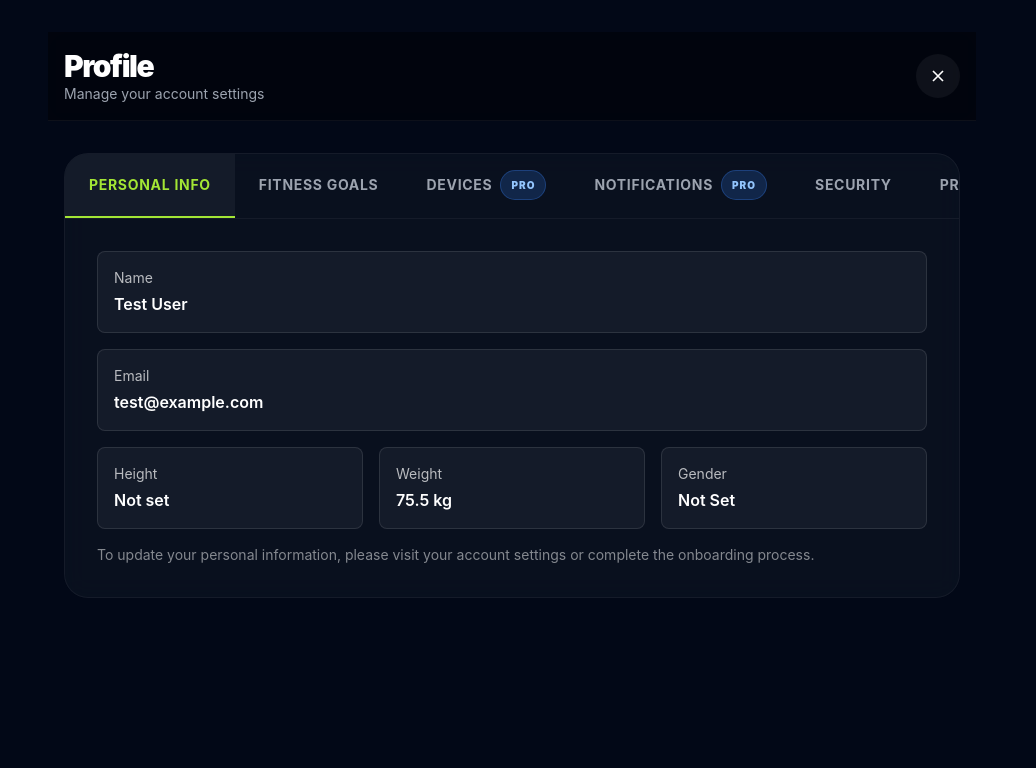
it: ProfileView › Devices Tab › should display PRO upgrade prompt
Step 1. Click the button "Devices PRO" → (486, 186), box [402,154,570,218]
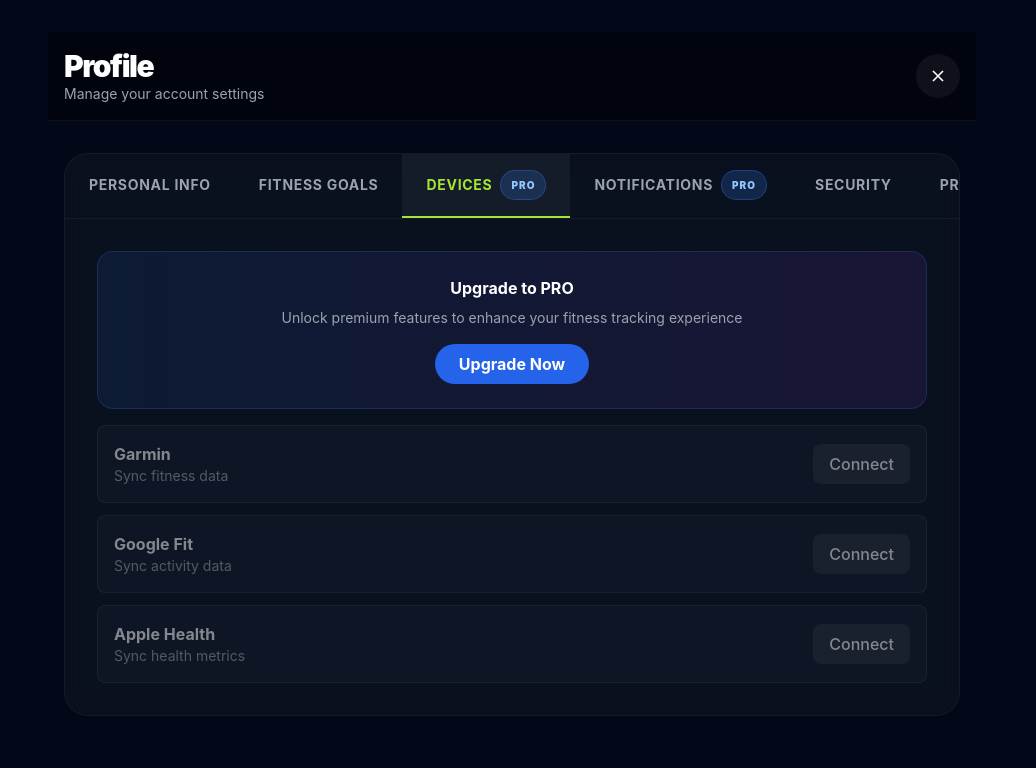
Now the heading "Upgrade to PRO" is shown, box [450,278,574,298]
Now the text "Unlock premium features" is shown, box [282,309,742,326]
